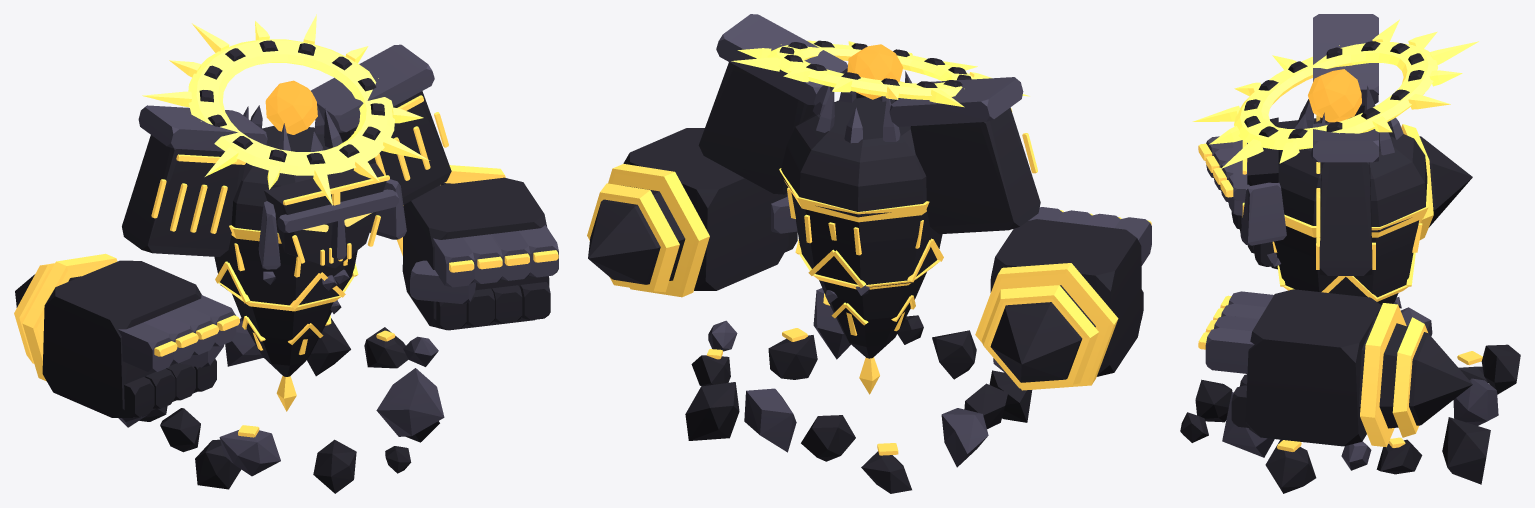
Rendered from warden.glb.
The picture shows the model from 3 angles, left to right: view 1: azimuth 30°, elevation 25°; view 2: azimuth 150°, elevation 25°; view 3: azimuth 270°, elevation 25°; orthographic projection. The views are drawn at different scales.
Parts seen in each view (by area): view 1: fistR, fistL, core, halo, stones, slabR, mask, slabL, sun; view 2: core, fistR, fistL, stones, slabR, slabL, halo, sun; view 3: fistL, core, stones, halo, slabL, fistR, mask, slabR, sun.
Boxes of the visible parts, left/top/right/bottom form: fistR: left=14, top=253, right=239, bottom=417; fistL: left=397, top=165, right=558, bottom=330; core: left=214, top=105, right=358, bottom=411; halo: left=142, top=14, right=429, bottom=205; stones: left=118, top=318, right=444, bottom=493; slabR: left=122, top=105, right=267, bottom=256; mask: left=258, top=163, right=406, bottom=269; slabL: left=311, top=44, right=451, bottom=204; sun: left=265, top=80, right=317, bottom=134; core: left=779, top=71, right=943, bottom=394; fistR: left=975, top=207, right=1151, bottom=390; fistL: left=587, top=128, right=797, bottom=297; stones: left=685, top=288, right=1032, bottom=493; slabR: left=889, top=77, right=1040, bottom=234; slabL: left=698, top=14, right=847, bottom=194; halo: left=731, top=40, right=1029, bottom=107; sun: left=847, top=44, right=903, bottom=99; fistL: left=1198, top=289, right=1472, bottom=447; core: left=1267, top=85, right=1428, bottom=308; stones: left=1180, top=307, right=1520, bottom=493; halo: left=1192, top=19, right=1478, bottom=168; slabL: left=1313, top=123, right=1378, bottom=275; fistR: left=1198, top=118, right=1472, bottom=269; mask: left=1233, top=117, right=1286, bottom=245; slabR: left=1313, top=14, right=1378, bottom=121; sun: left=1308, top=69, right=1361, bottom=122.
Size of the model in its own units: 7.13 by 5.2 by 4.14.
